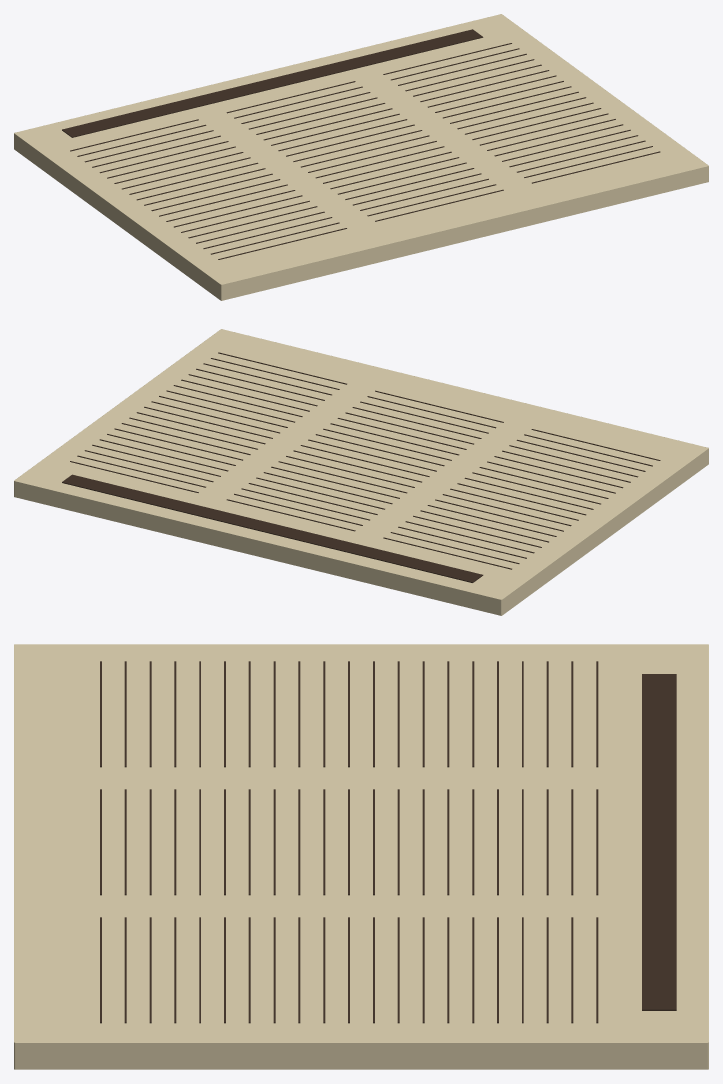
File: Newspaper.fbx
3 views of the same model, one above another, from view 1: azimuth 30°, elevation 25°; view 2: azimuth 150°, elevation 25°; view 3: azimuth 270°, elevation 25° (orthographic). The views are drawn at different scales.
Parts seen in each view (by area): view 1: Folded newspaper.001, Masthead.001; view 2: Folded newspaper.001, Masthead.001; view 3: Folded newspaper.001, Masthead.001.
Part boxes in pixels (x1,y1,x2,y2): Folded newspaper.001: [14, 14, 708, 300]; Masthead.001: [62, 29, 483, 137]; Folded newspaper.001: [14, 329, 708, 615]; Masthead.001: [62, 474, 483, 582]; Folded newspaper.001: [14, 644, 708, 1069]; Masthead.001: [642, 674, 676, 1010].
Bounding box in the file's own units: 0.38 × 0.0128 × 0.28.
